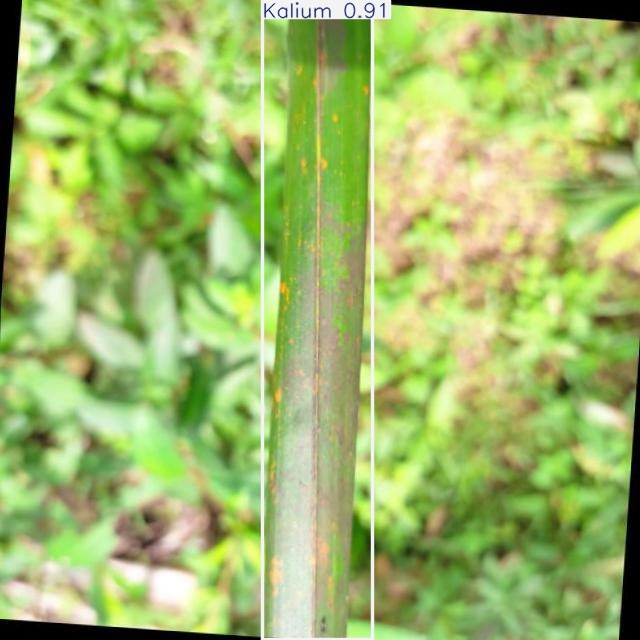Kalium: (263, 0, 372, 640)
